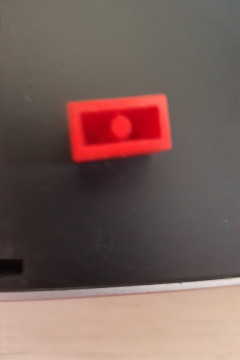1x2 red: (61, 90, 172, 165)
